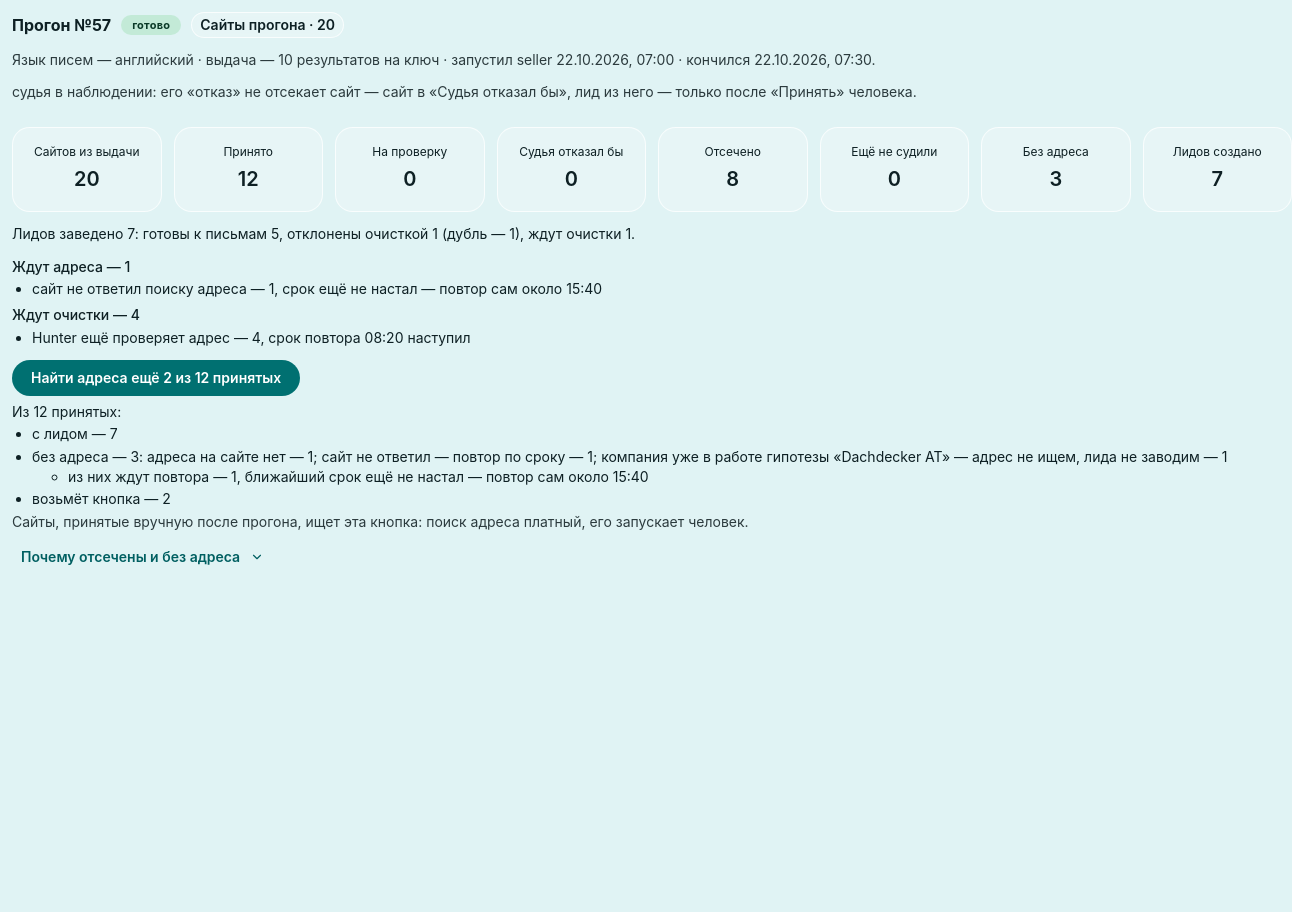
Test case: расшифровка под кнопкой в отчёте прогона › отказ сервера — сразу под кнопкой, над расшифровкой: ответ на нажатие рядом с ним
Click the button "Найти адреса ещё 2 из 12 принятых" at (156, 378), box [12,360,300,396]
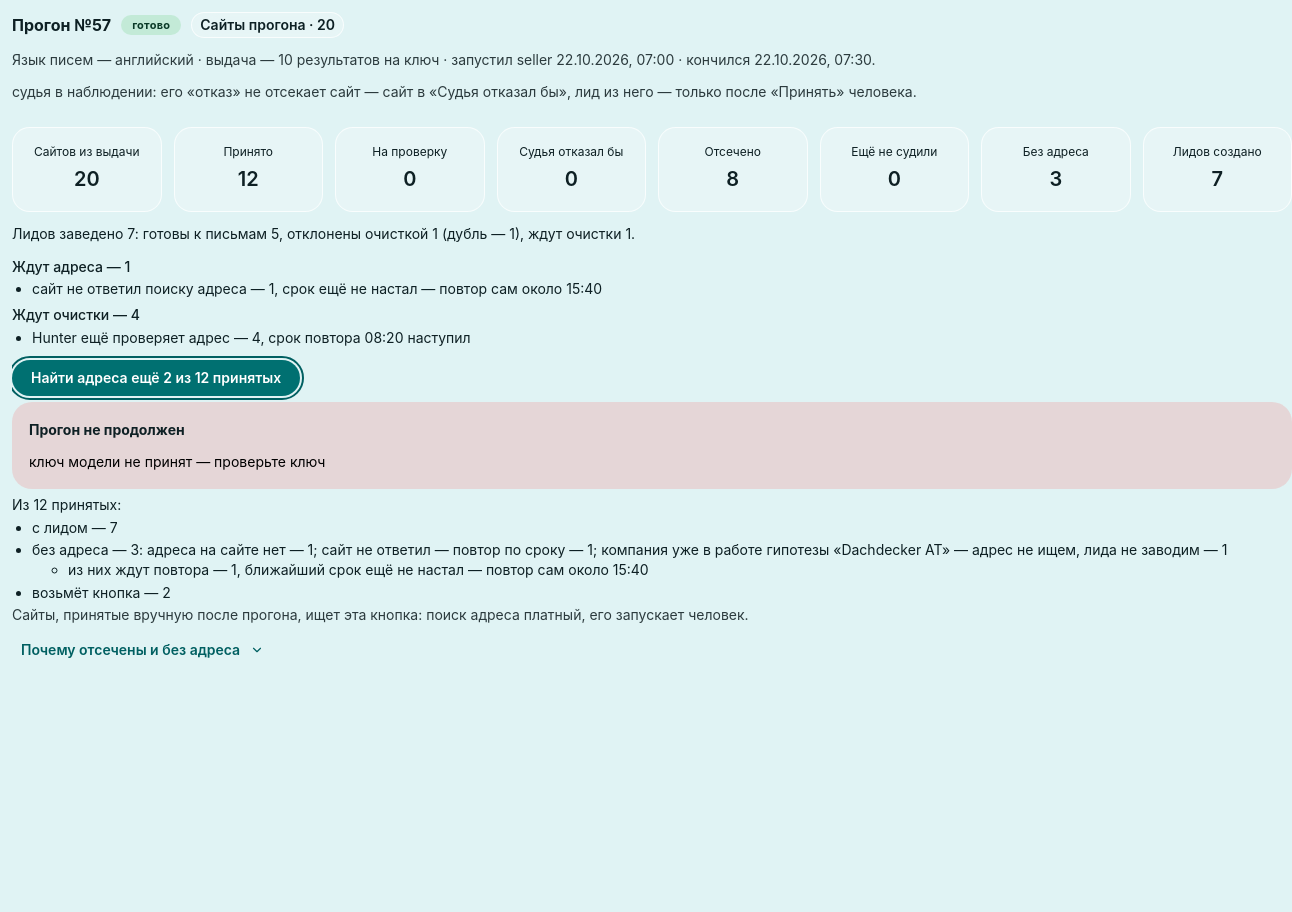
Result: the text "Прогон не продолжен" is shown at [29,419,185,441]
